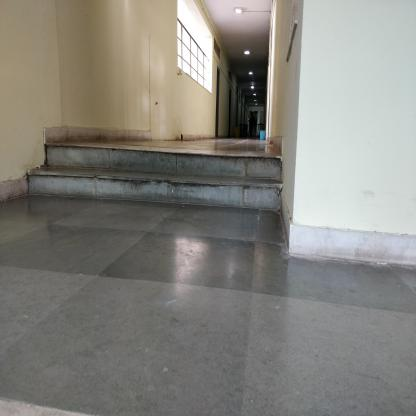stairs: (42, 145, 281, 210)
